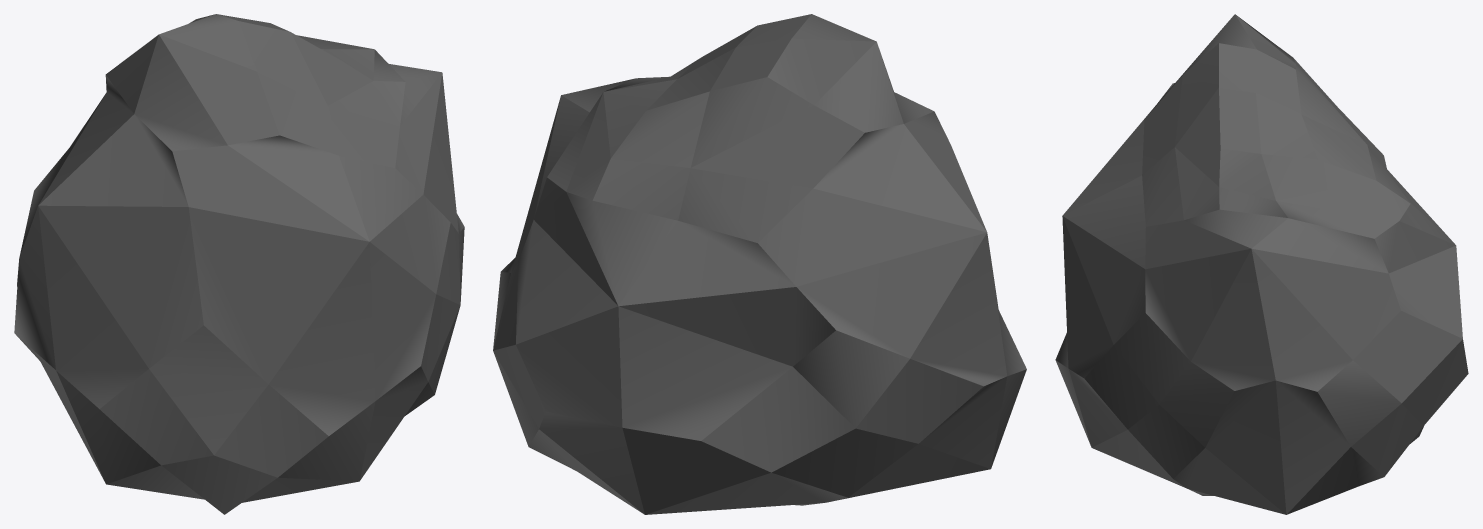
File: Rock4.fbx
3 renders of one model, left to right at view 1: azimuth 30°, elevation 25°; view 2: azimuth 150°, elevation 25°; view 3: azimuth 270°, elevation 25°, orthographic. The views are drawn at different scales.
Parts seen in each view (by area): view 1: Rock4; view 2: Rock4; view 3: Rock4.
Part boxes in pixels (x1,y1,x2,y2): Rock4: (14,14,464,514); Rock4: (493,14,1026,514); Rock4: (1055,14,1468,514).
Bounding box in the file's own units: 26.03 × 25.18 × 23.47.
